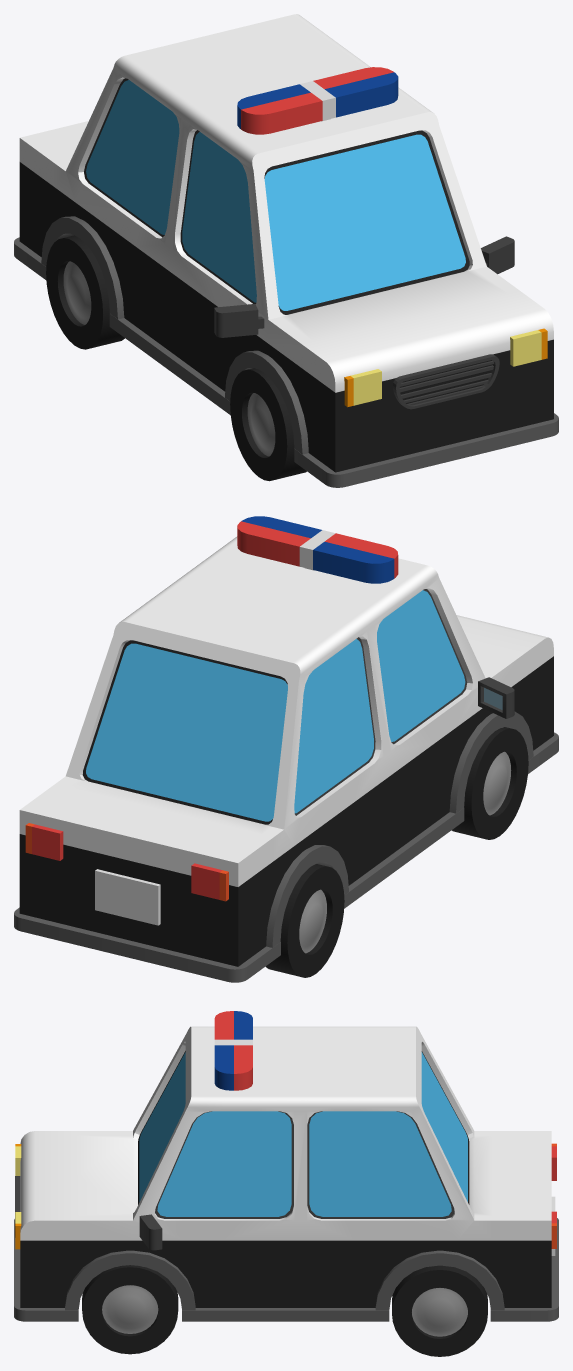
The model's file is oncoming_police_car.fbx.
3 views of the same model, one above another, from view 1: azimuth 30°, elevation 25°; view 2: azimuth 150°, elevation 25°; view 3: azimuth 270°, elevation 25° (orthographic). The views are drawn at different scales.
Parts seen in each view (by area): view 1: Cube.648; view 2: Cube.648; view 3: Cube.648.
Part boxes in pixels (x1,y1,x2,y2): Cube.648: [14, 14, 558, 487]; Cube.648: [14, 516, 558, 982]; Cube.648: [14, 1011, 558, 1356].
Size of the model in its own units: 190 by 192 by 359.
Materials: 1 (1 with a texture image).
